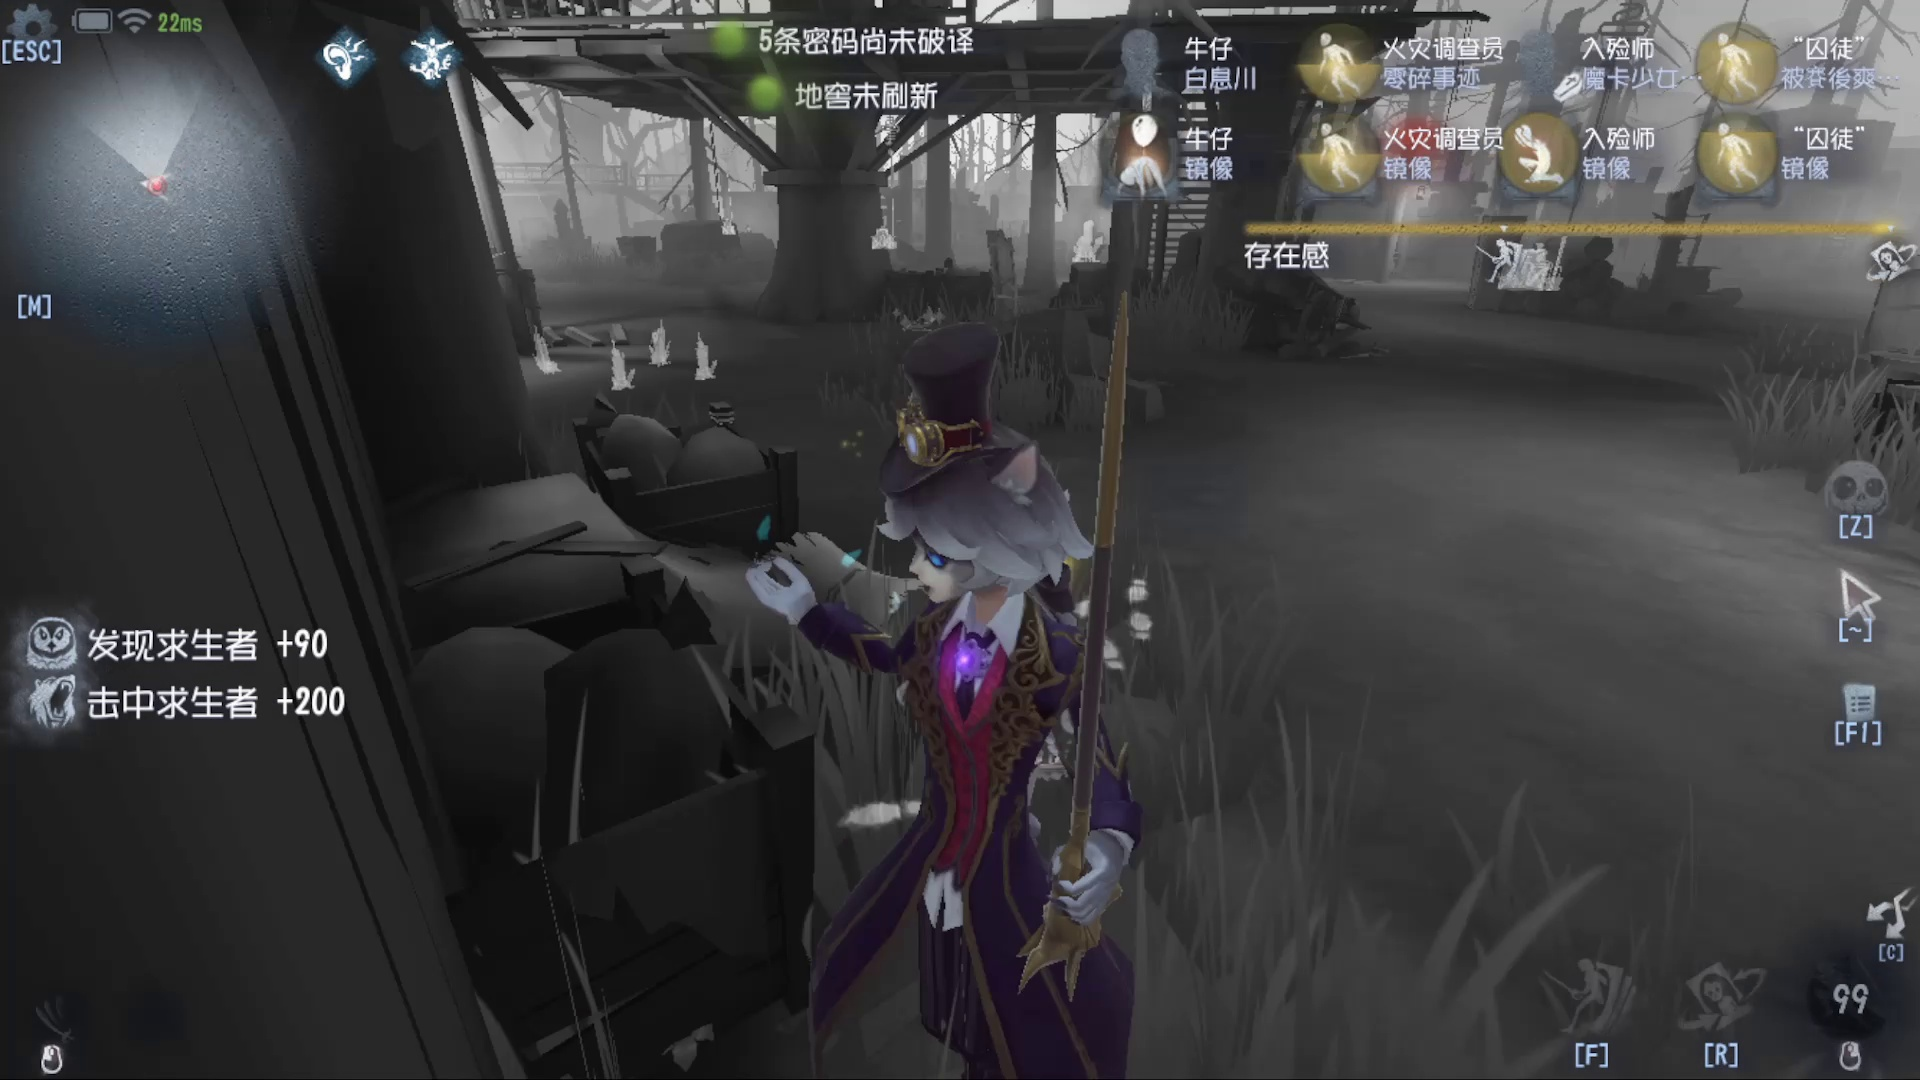密码机: (597, 335, 662, 413)
狂欢之椅: (1058, 193, 1106, 284)
